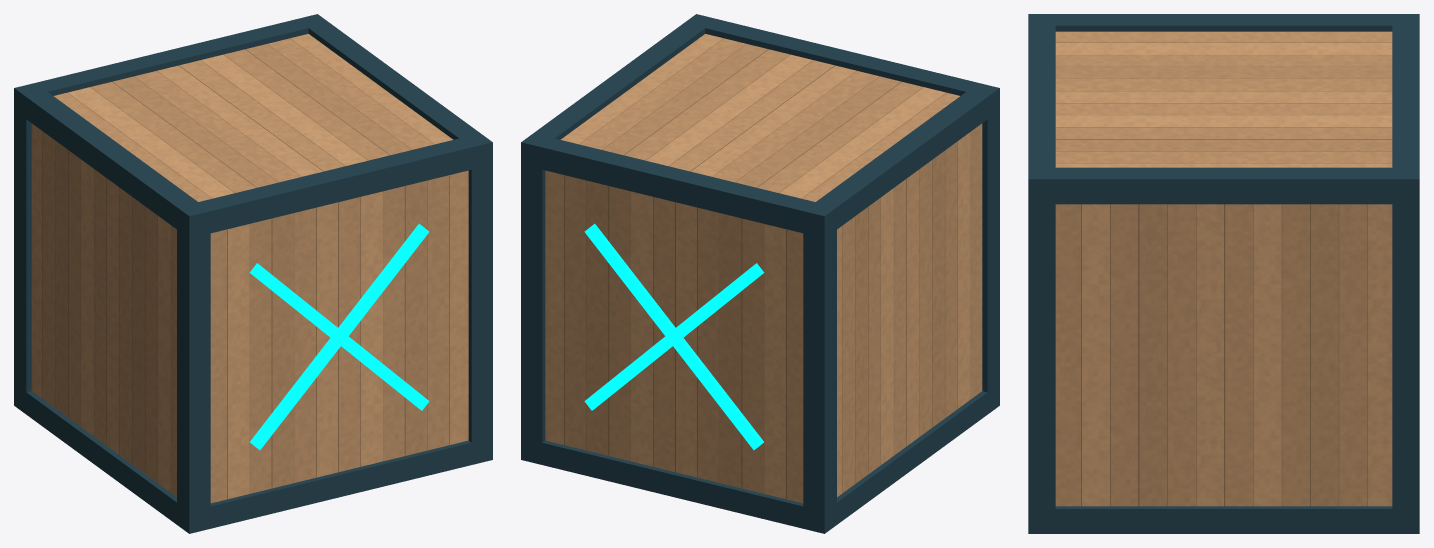
The model's file is env_supply_crate.glb.
3 renders of one model, left to right at view 1: azimuth 30°, elevation 25°; view 2: azimuth 150°, elevation 25°; view 3: azimuth 270°, elevation 25°, orthographic. The views are drawn at different scales.
Visible parts, largest first — view 1: env_supply_crate; view 2: env_supply_crate; view 3: env_supply_crate.
Boxes of the visible parts, x1=… form: env_supply_crate: x1=14, y1=14, x2=492, y2=533; env_supply_crate: x1=521, y1=14, x2=999, y2=533; env_supply_crate: x1=1028, y1=14, x2=1419, y2=533.
Size of the model in its own units: 1.14 by 1.14 by 1.14.
3 materials, 1 textured.
